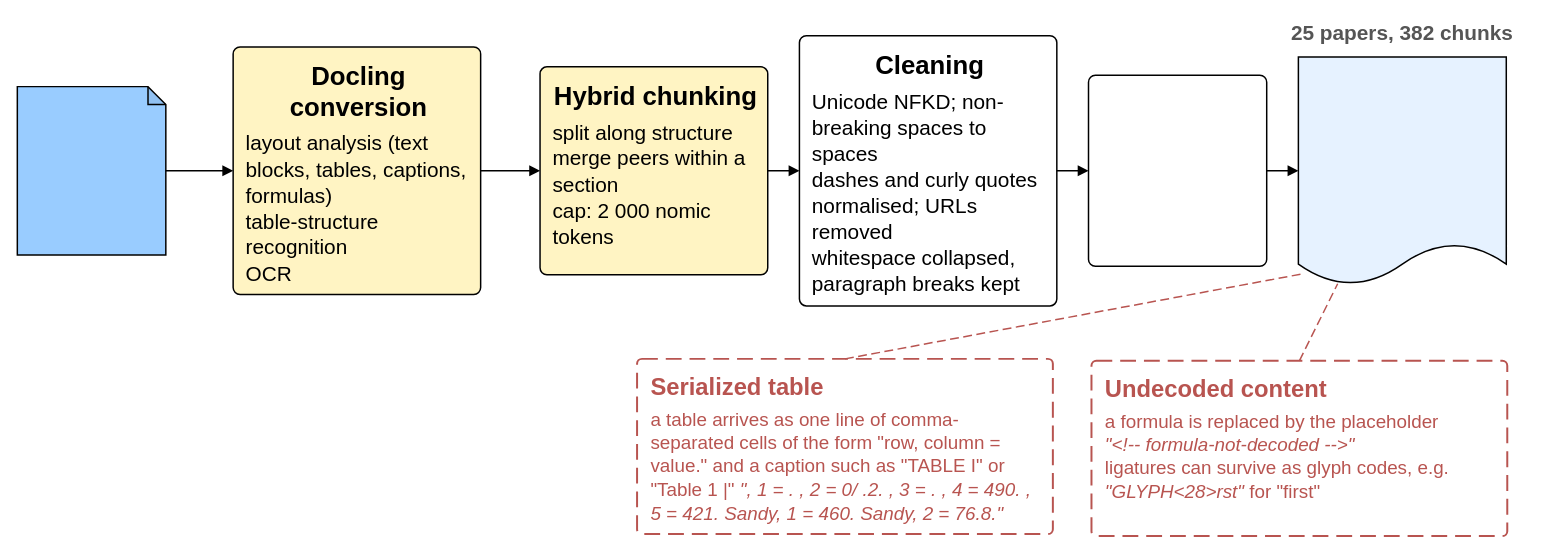
This 1553x553 diagram has some shape labels left out. The shapes that lost their labels are listed below. From the top down, each one's box as (x1, y1, x2, y2) in pixels, then its label:
(16, 85, 166, 255): PDF document a scientific paper as a PDF file
(1087, 74, 1267, 267): Identifier SHA-256 hash of the cleaned chunk text becomes the chunk id
(1297, 56, 1507, 285): Frozen chunk record { "text", "document", "id" } one file per paper
